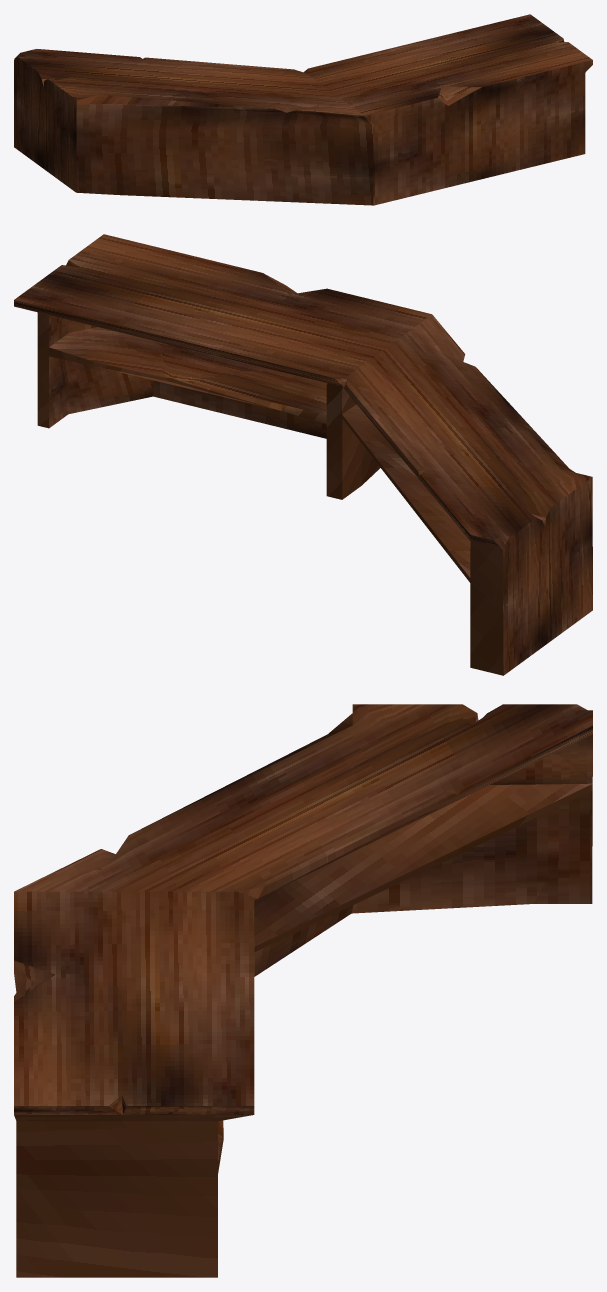
Rendered from StoreFront.gltf.
3 views of the same model, one above another, from view 1: azimuth 30°, elevation 25°; view 2: azimuth 150°, elevation 25°; view 3: azimuth 270°, elevation 25° (orthographic). The views are drawn at different scales.
Visible parts, largest first — view 1: pCube1; view 2: pCube1; view 3: pCube1.
Part boxes in pixels (x1,y1,x2,y2): pCube1: (14, 14, 592, 205); pCube1: (14, 234, 592, 675); pCube1: (14, 704, 592, 1277).
Size of the model in its own units: 8.33 by 1.72 by 5.07.
1 material, 1 textured.
